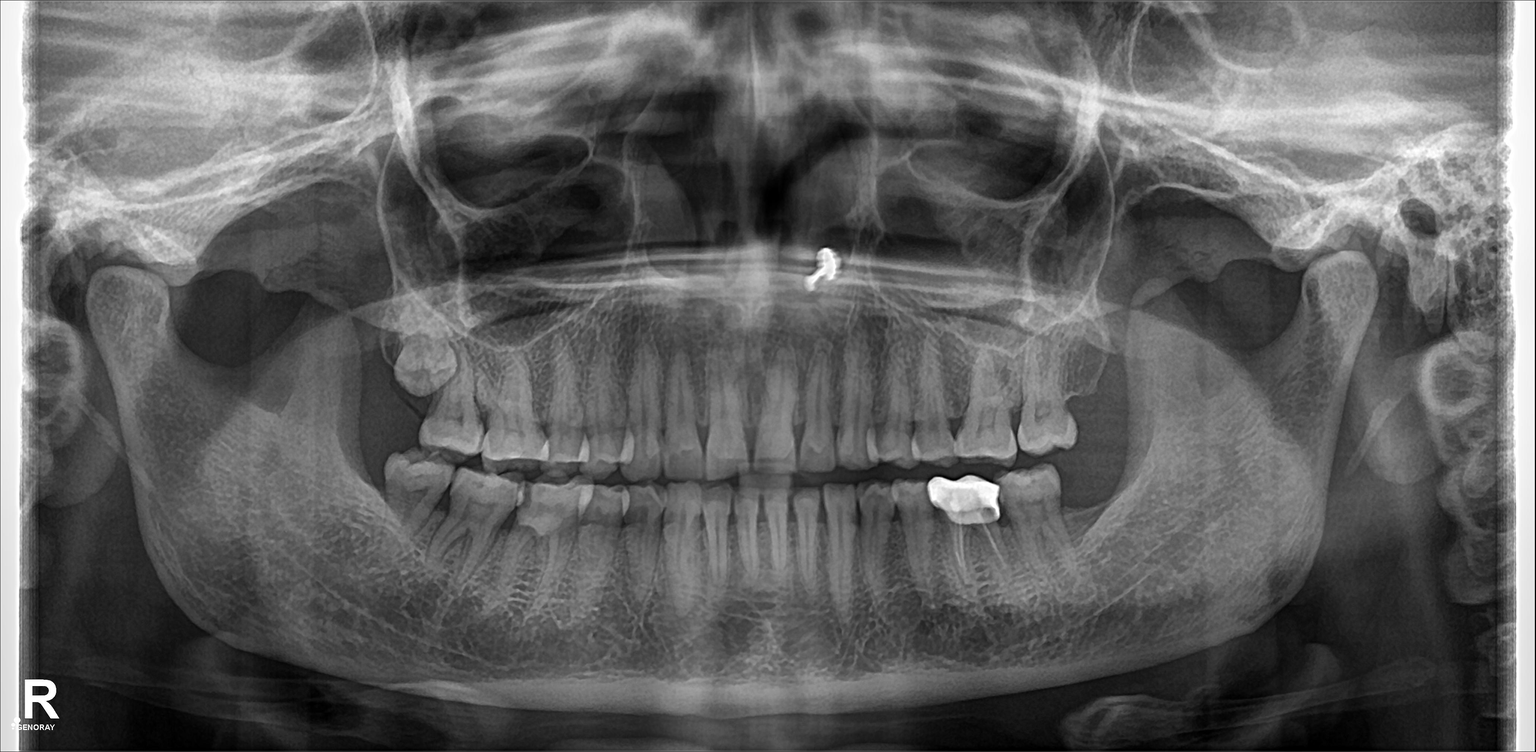Impacted Third Molar: (933, 477, 1013, 600), (395, 303, 454, 396)
Missing Tooth: (1065, 456, 1119, 553), (348, 307, 401, 398), (1073, 342, 1119, 432)
